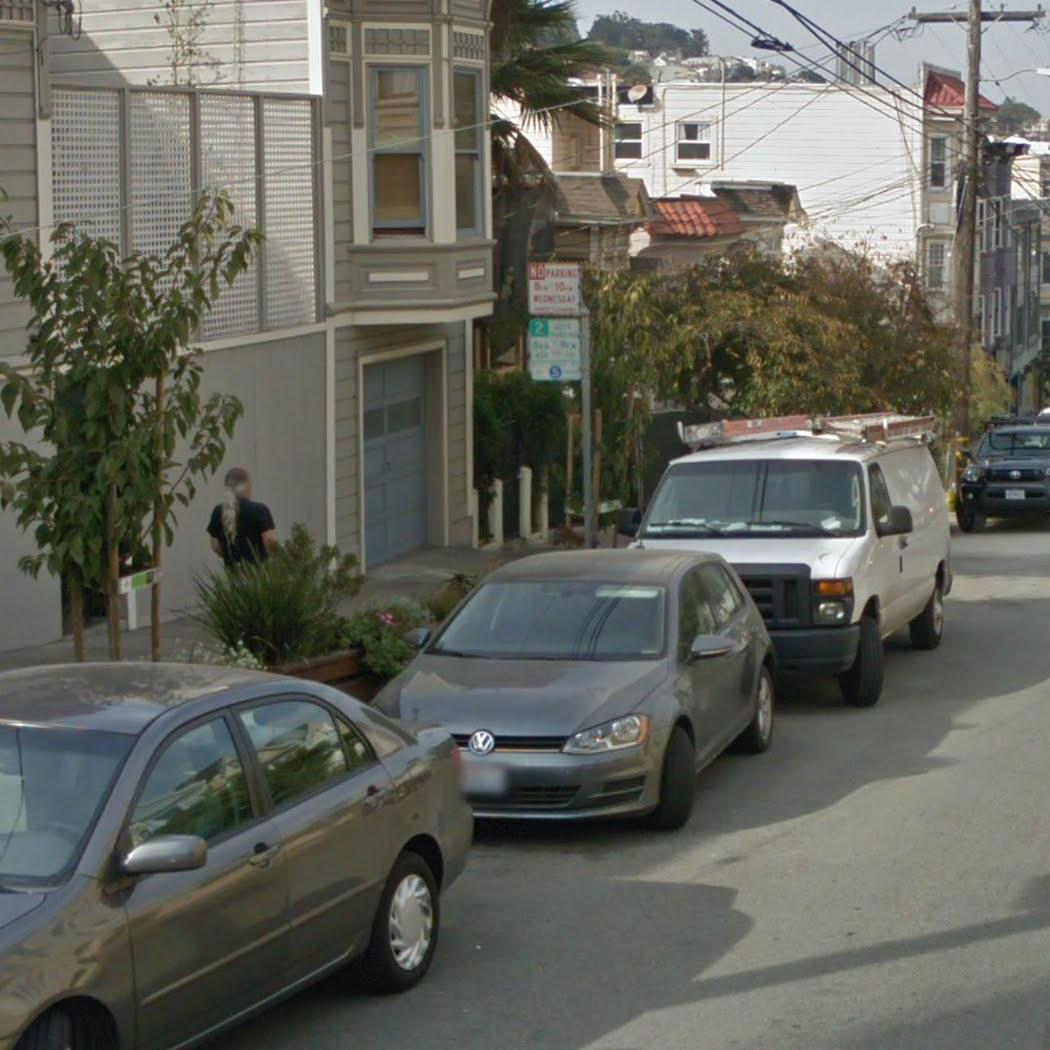2 Hour Parking: (525, 315, 587, 385)
No Parking: (524, 259, 587, 318)
